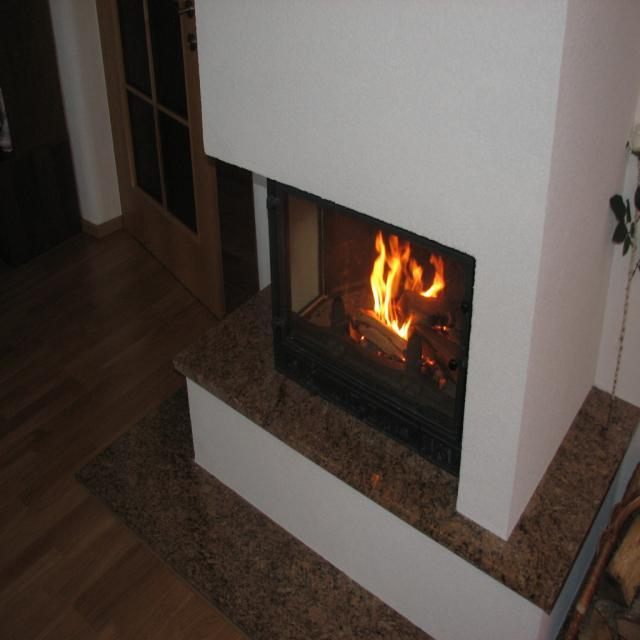Fire: (362, 233, 448, 354)
